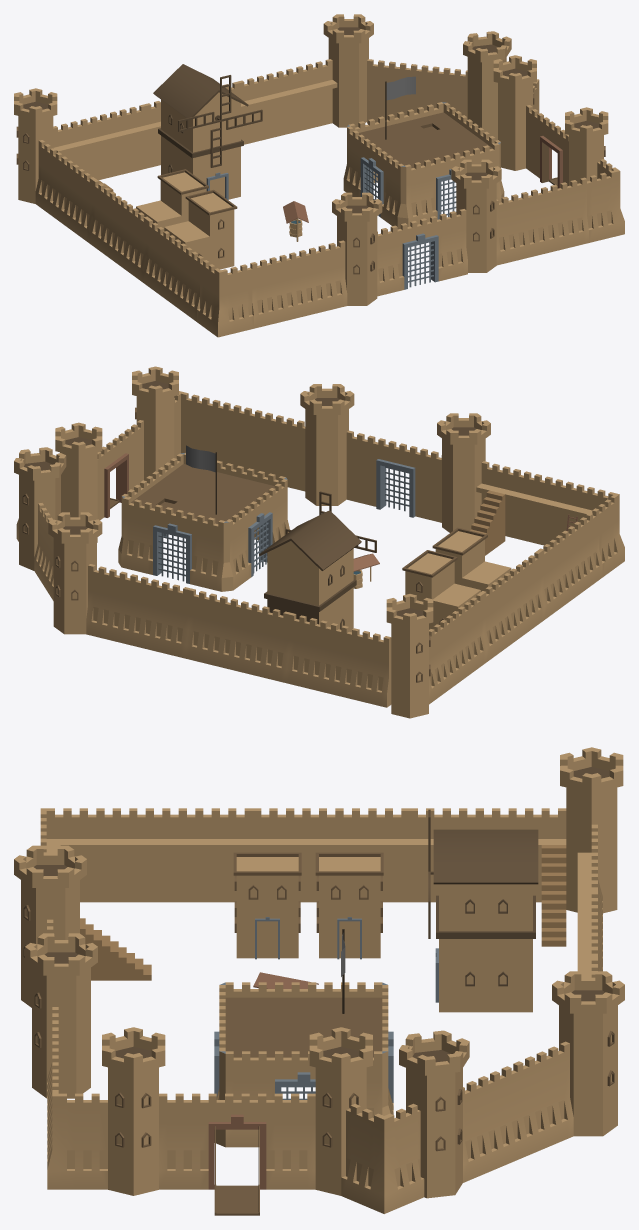
3 renders of one model, top to bottom at view 1: azimuth 30°, elevation 25°; view 2: azimuth 150°, elevation 25°; view 3: azimuth 270°, elevation 25°, orthographic. The views are drawn at different scales.
Parts seen in each view (by area): view 1: scene_group building_01, scene_group mill, scene_group wall_01, scene_group wall_02, scene_group wall_08, scene_group door_02, scene_group wall_06, scene_group tower_06, scene_group wall_09, scene_group tower_02, scene_group tower_01, scene_group wall_04 (+14 smaller); view 2: scene_group building_01, scene_group mill, scene_group wall_06, scene_group wall_07, scene_group wall_08, scene_group door_02, scene_group wall_02, scene_group wall_01, scene_group tower_01, scene_group tower_05, scene_group tower_06, scene_group tower_02 (+15 smaller); view 3: scene_group mill, scene_group building_01, scene_group door_01, scene_group wall_03, scene_group wall_09, scene_group tower_01, scene_group wall_04, scene_group tower_06, scene_group tower_03, scene_group tower_07, scene_group corner_wall_03, scene_group tower_05 (+12 smaller).
Boxes of the visible parts, left/top/right/bottom form: scene_group building_01: left=343, top=102, right=504, bottom=229; scene_group mill: left=153, top=64, right=262, bottom=199; scene_group wall_01: left=250, top=240, right=347, bottom=328; scene_group wall_02: left=496, top=177, right=588, bottom=265; scene_group wall_08: left=238, top=59, right=337, bottom=144; scene_group door_02: left=377, top=209, right=467, bottom=296; scene_group wall_06: left=53, top=104, right=151, bottom=180; scene_group tower_06: left=323, top=14, right=373, bottom=127; scene_group wall_09: left=367, top=59, right=467, bottom=123; scene_group tower_02: left=332, top=192, right=382, bottom=305; scene_group tower_01: left=451, top=159, right=501, bottom=272; scene_group wall_04: left=89, top=179, right=149, bottom=282; scene_group building_01: left=118, top=453, right=289, bottom=591; scene_group mill: left=259, top=491, right=376, bottom=632; scene_group wall_06: left=286, top=613, right=391, bottom=707; scene_group wall_07: left=186, top=588, right=290, bottom=683; scene_group wall_08: left=86, top=564, right=189, bottom=658; scene_group door_02: left=346, top=430, right=441, bottom=522; scene_group wall_02: left=212, top=400, right=305, bottom=491; scene_group wall_01: left=476, top=461, right=584, bottom=545; scene_group tower_01: left=300, top=384, right=354, bottom=505; scene_group tower_05: left=386, top=594, right=433, bottom=718; scene_group tower_06: left=48, top=512, right=102, bottom=634; scene_group tower_02: left=437, top=413, right=490, bottom=532; scene_group mill: left=428, top=809, right=538, bottom=1012; scene_group building_01: left=214, top=982, right=393, bottom=1147; scene_group door_01: left=159, top=1093, right=315, bottom=1215; scene_group wall_03: left=96, top=808, right=252, bottom=902; scene_group wall_09: left=463, top=1041, right=573, bottom=1182; scene_group tower_01: left=25, top=933, right=97, bottom=1098; scene_group wall_04: left=253, top=808, right=409, bottom=902; scene_group tower_06: left=552, top=971, right=624, bottom=1136; scene_group tower_03: left=102, top=1027, right=165, bottom=1195; scene_group tower_07: left=399, top=1030, right=469, bottom=1198; scene_group corner_wall_03: left=341, top=1103, right=424, bottom=1213; scene_group tower_05: left=560, top=747, right=623, bottom=913.
Bounding box in the file's own units: 3758 × 1027 × 2964.
Materials: 1 (1 with a texture image).
